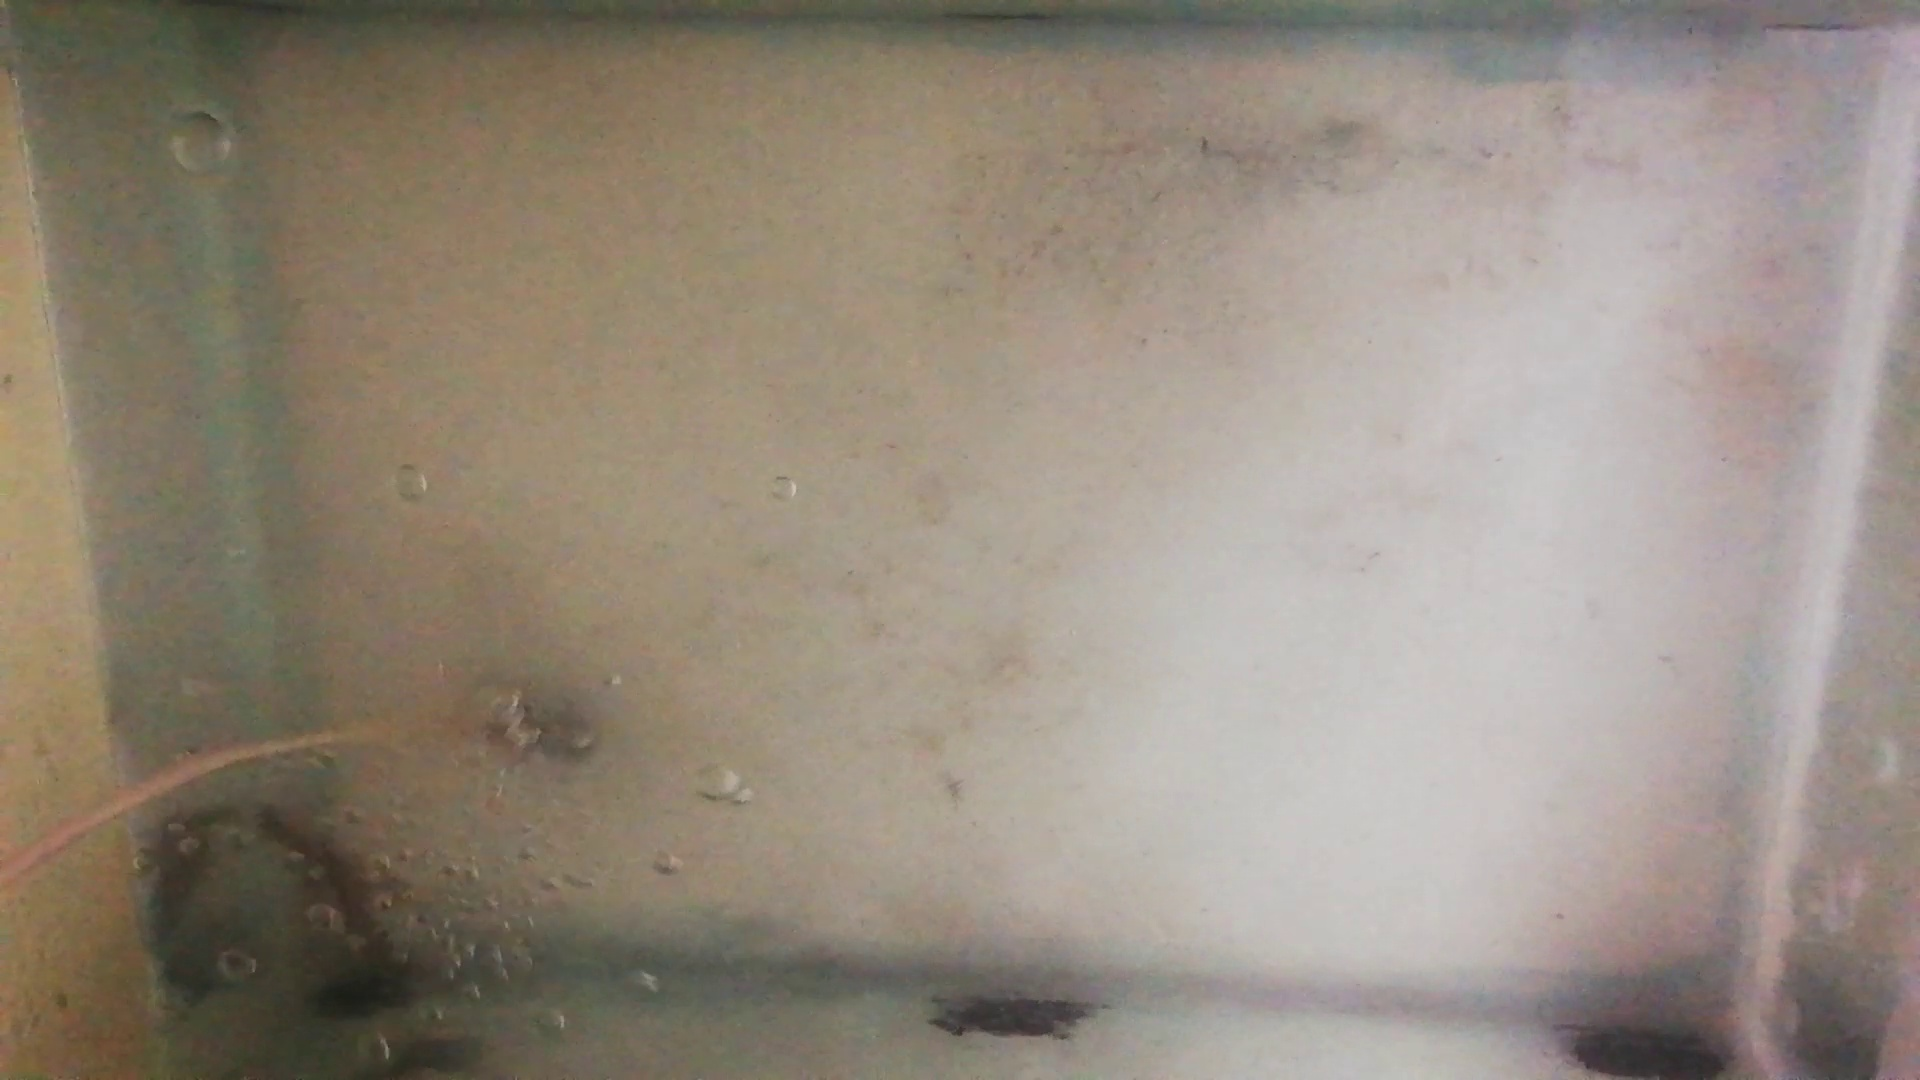fish: (326, 884, 438, 1000), (257, 804, 369, 887)
